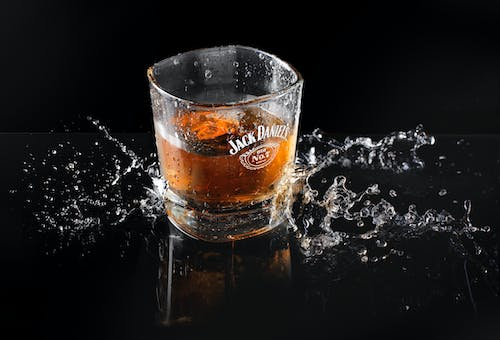alcohol: (146, 44, 305, 244)
